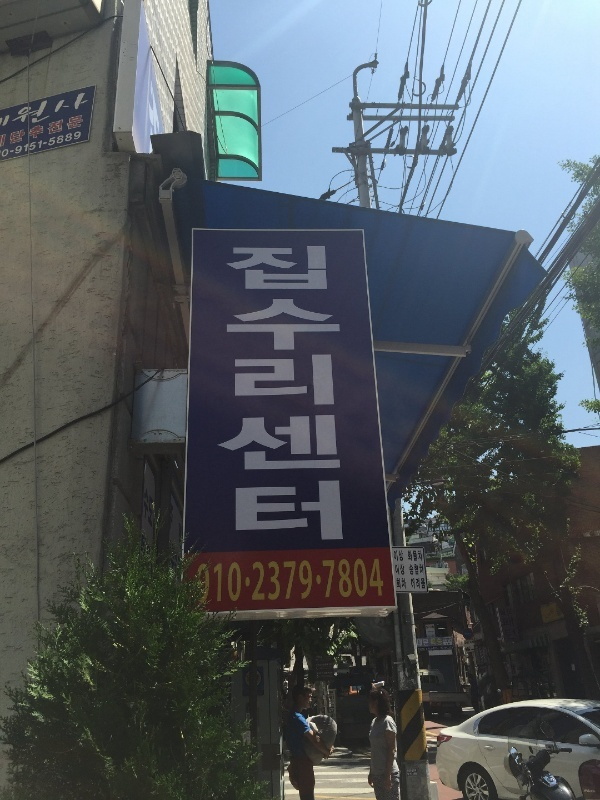text: (241, 241, 256, 547), (257, 241, 272, 547), (273, 241, 288, 547), (289, 241, 304, 547), (305, 241, 320, 547), (321, 241, 336, 547), (227, 241, 240, 547), (337, 241, 346, 547), (209, 561, 224, 606), (225, 561, 240, 606), (257, 559, 272, 603), (273, 559, 288, 603), (289, 559, 304, 603), (17, 89, 32, 131), (33, 89, 48, 131), (49, 89, 64, 131), (65, 89, 80, 131), (337, 558, 352, 600), (353, 558, 368, 600), (369, 558, 384, 600), (322, 558, 336, 600), (17, 111, 32, 148), (33, 111, 48, 148), (49, 111, 64, 148), (65, 111, 80, 148), (17, 129, 32, 162), (33, 129, 48, 162), (49, 129, 64, 162), (65, 129, 80, 162), (2, 129, 16, 162), (198, 561, 208, 606), (81, 89, 91, 131), (305, 559, 314, 603), (10, 111, 16, 148), (81, 111, 86, 148), (252, 559, 256, 603), (12, 89, 16, 131), (417, 638, 432, 648), (436, 637, 448, 648), (417, 577, 426, 591), (408, 549, 416, 563), (409, 563, 416, 577), (417, 563, 424, 577), (393, 549, 400, 563), (241, 561, 243, 606), (401, 577, 407, 591), (417, 549, 423, 563), (411, 577, 416, 591), (395, 563, 400, 577), (401, 563, 406, 577), (396, 577, 400, 591), (401, 549, 404, 563), (385, 558, 386, 600), (81, 129, 82, 162), (433, 637, 436, 647), (430, 637, 432, 647)
